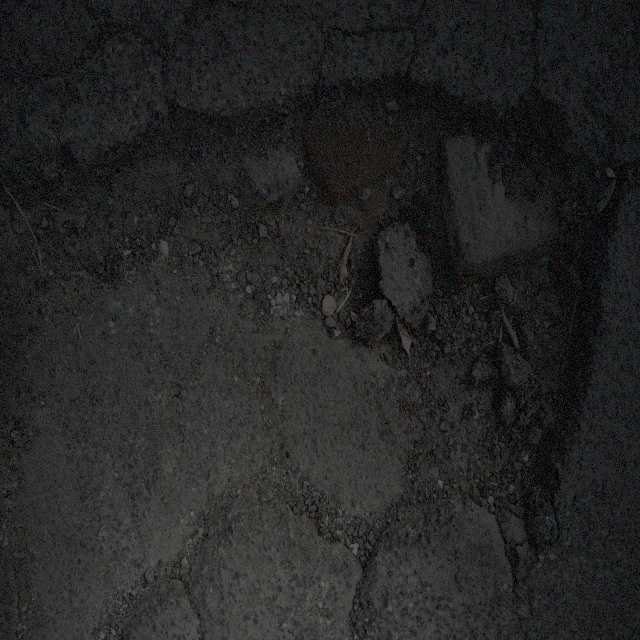pothole: (79, 63, 622, 551)
